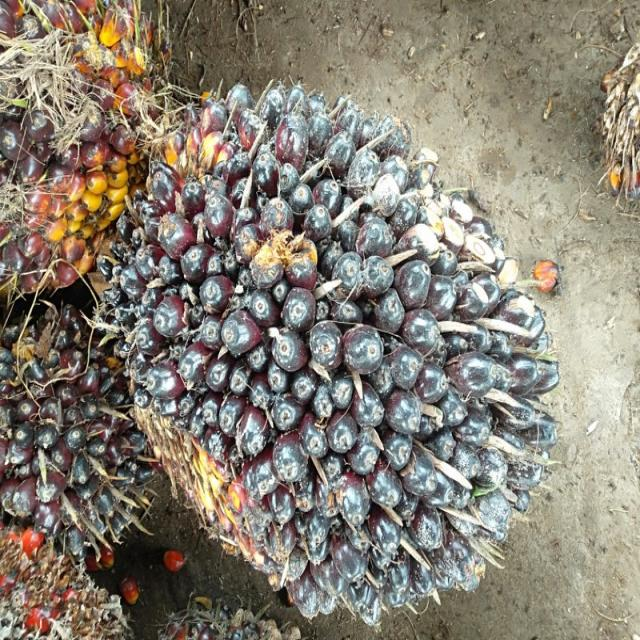fraksi 00: (99, 83, 573, 613)
